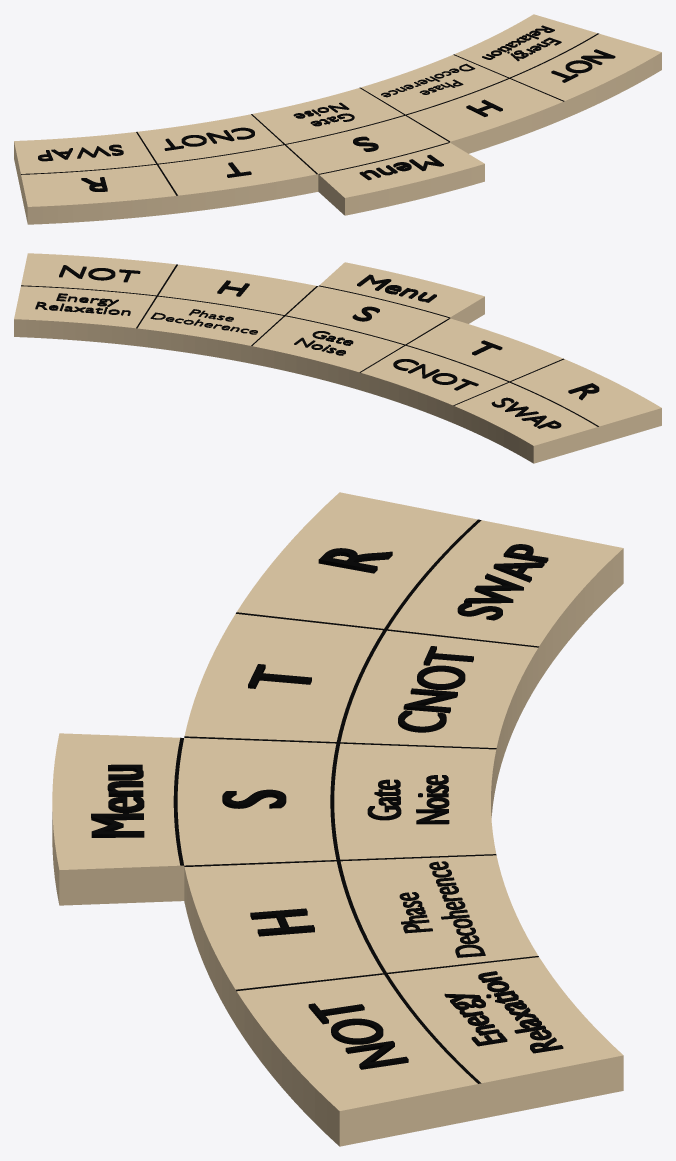
The model's file is Toolbox.fbx.
3 renders of one model, top to bottom at view 1: azimuth 30°, elevation 25°; view 2: azimuth 150°, elevation 25°; view 3: azimuth 270°, elevation 25°, orthographic. The views are drawn at different scales.
Visible parts, largest first — view 1: Tray, S_Face, R_Face, T_Face, H_Face, NOT _Face, Gate_Face, SWAP_Face, Decoherence_Face, Relaxation_Face, CNOT_Face, Menu_Face (+7 smaller); view 2: Tray, S_Face, R_Face, T_Face, H_Face, NOT _Face, Gate_Face, Decoherence_Face, SWAP_Face, Relaxation_Face, CNOT_Face, Menu_Face (+7 smaller); view 3: Tray, S_Face, R_Face, T_Face, H_Face, NOT _Face, Gate_Face, SWAP_Face, Decoherence_Face, Relaxation_Face, CNOT_Face, Menu_Face (+9 smaller).
Boxes of the visible parts, x1=… form: Tray: x1=14, y1=33, x2=661, y2=224; S_Face: x1=286, y1=115, x2=448, y2=173; R_Face: x1=21, y1=164, x2=176, y2=206; T_Face: x1=158, y1=145, x2=315, y2=195; H_Face: x1=407, y1=79, x2=562, y2=141; NOT _Face: x1=511, y1=33, x2=661, y2=100; Gate_Face: x1=252, y1=88, x2=403, y2=143; SWAP_Face: x1=14, y1=132, x2=155, y2=173; Decoherence_Face: x1=361, y1=55, x2=507, y2=114; Relaxation_Face: x1=454, y1=14, x2=597, y2=77; CNOT_Face: x1=137, y1=114, x2=282, y2=163; Menu_Face: x1=319, y1=143, x2=484, y2=197; Tray: x1=14, y1=264, x2=661, y2=463; S_Face: x1=286, y1=286, x2=448, y2=344; R_Face: x1=511, y1=359, x2=661, y2=426; T_Face: x1=407, y1=318, x2=562, y2=381; H_Face: x1=158, y1=264, x2=315, y2=314; NOT _Face: x1=21, y1=253, x2=176, y2=295; Gate_Face: x1=252, y1=316, x2=403, y2=372; Decoherence_Face: x1=137, y1=296, x2=282, y2=345; SWAP_Face: x1=454, y1=382, x2=597, y2=445; Relaxation_Face: x1=14, y1=286, x2=155, y2=328; CNOT_Face: x1=361, y1=345, x2=507, y2=405; Menu_Face: x1=319, y1=262, x2=484, y2=317; Tray: x1=52, y1=519, x2=623, y2=1146; S_Face: x1=177, y1=738, x2=336, y2=865; R_Face: x1=237, y1=492, x2=477, y2=628; T_Face: x1=184, y1=614, x2=382, y2=741; H_Face: x1=184, y1=861, x2=382, y2=989; NOT _Face: x1=237, y1=974, x2=477, y2=1110; Gate_Face: x1=334, y1=743, x2=496, y2=859; SWAP_Face: x1=388, y1=520, x2=623, y2=646; Decoherence_Face: x1=340, y1=855, x2=538, y2=972; Relaxation_Face: x1=388, y1=957, x2=622, y2=1082; CNOT_Face: x1=340, y1=630, x2=537, y2=747; Menu_Face: x1=52, y1=733, x2=180, y2=869.
Bounding box in the file's own units: 226 × 7.04 × 88.28.
